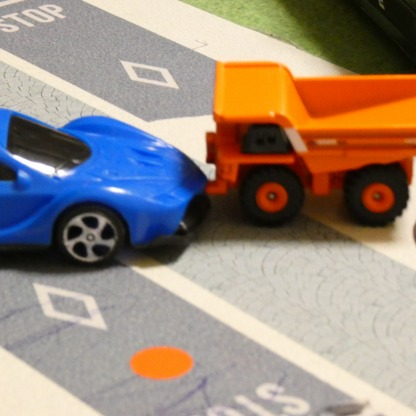car: (209, 57, 415, 226), (0, 104, 206, 261)
